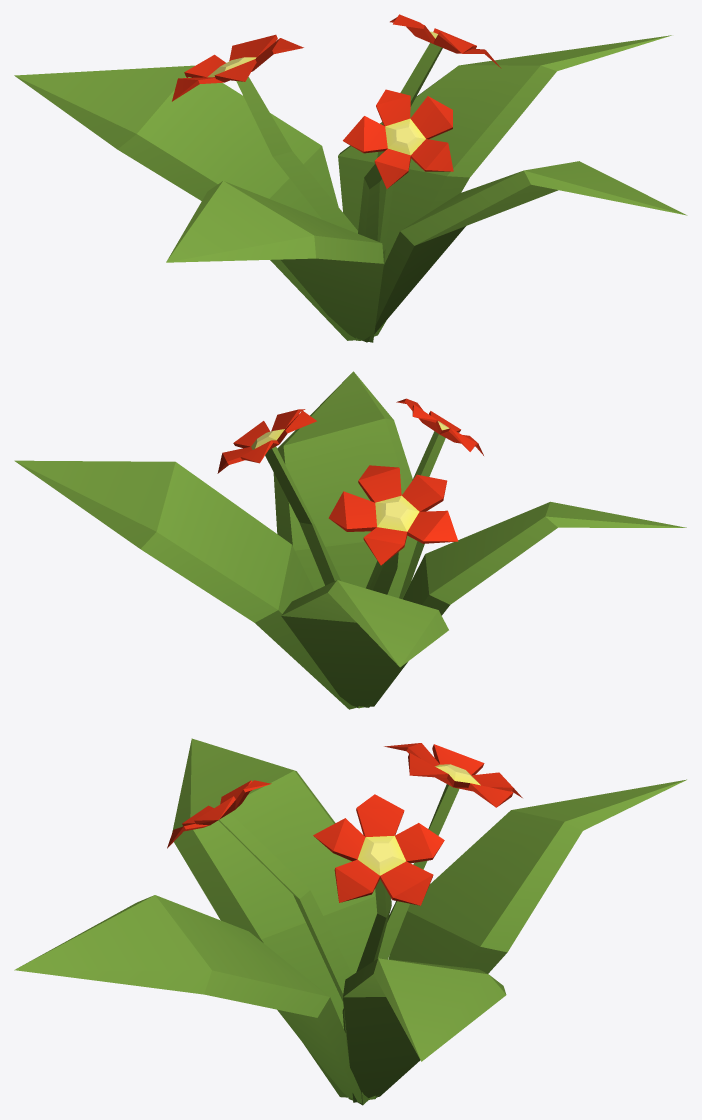
The model's file is Flower_bush_red.fbx.
The picture shows the model from 3 angles, top to bottom: view 1: azimuth 30°, elevation 25°; view 2: azimuth 150°, elevation 25°; view 3: azimuth 270°, elevation 25°; orthographic projection. The views are drawn at different scales.
Visible parts, largest first — view 1: Flower_bush_red; view 2: Flower_bush_red; view 3: Flower_bush_red.
Part boxes in pixels (x1,y1,x2,y2): Flower_bush_red: (14, 14, 687, 342); Flower_bush_red: (14, 371, 686, 709); Flower_bush_red: (14, 738, 686, 1105).
Size of the model in its own units: 1.35 by 0.6264 by 1.19.
